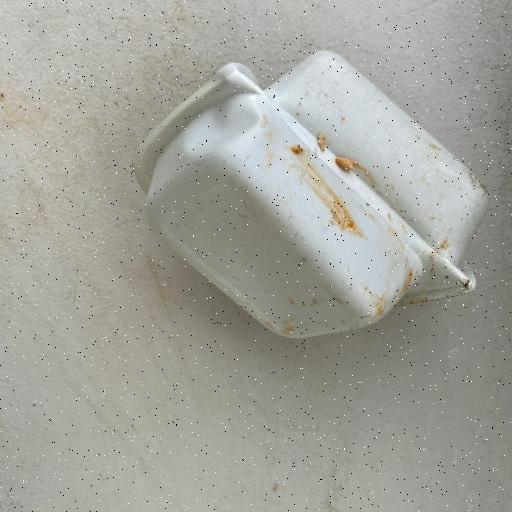Plastic: (130, 48, 488, 341)
